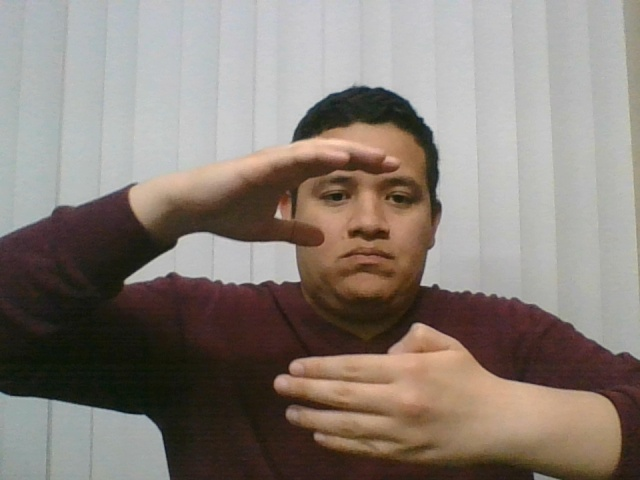To Study: (109, 120, 548, 470)
